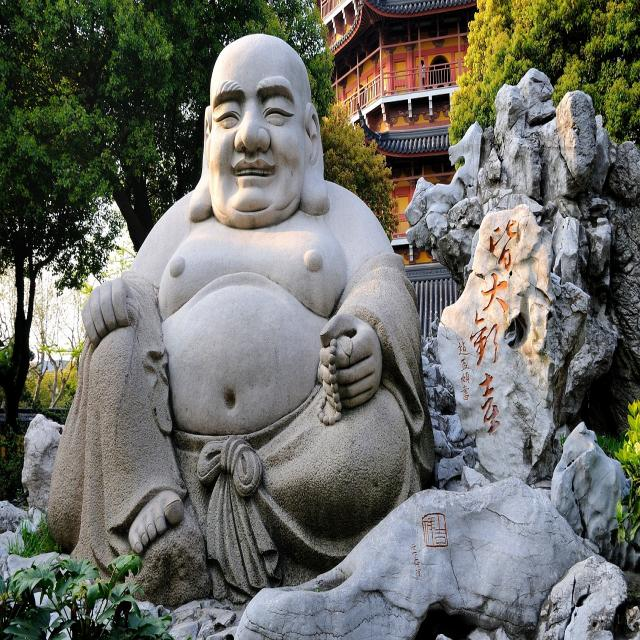Smiling Buddha: (121, 35, 376, 496)
